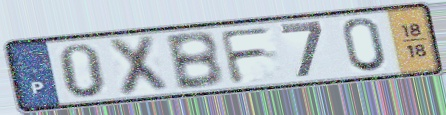0: (55, 42, 109, 99), (341, 16, 389, 74)
7: (276, 18, 328, 81)
B: (162, 29, 227, 92)
F: (216, 24, 276, 86)
X: (105, 32, 172, 98)
